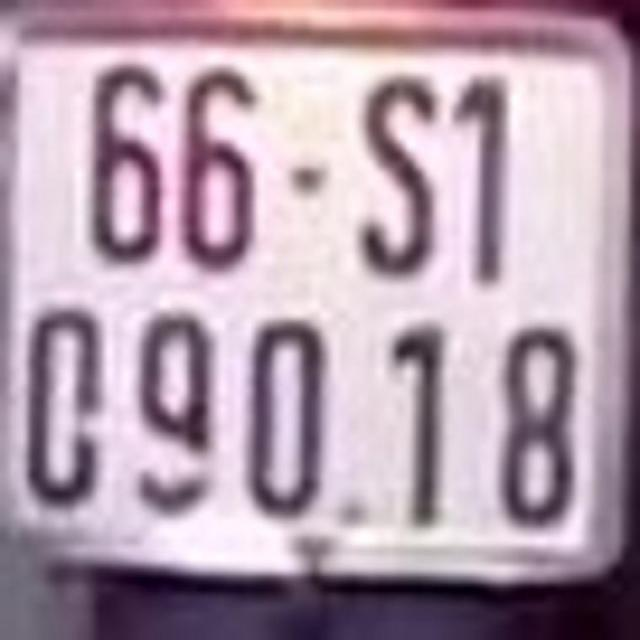0: (236, 305, 328, 521), (20, 302, 106, 508)
1: (376, 311, 454, 536), (448, 60, 520, 292)
6: (87, 56, 172, 271), (180, 56, 264, 266)
8: (492, 314, 582, 543)
9: (125, 302, 219, 514)
S: (350, 62, 442, 292)
